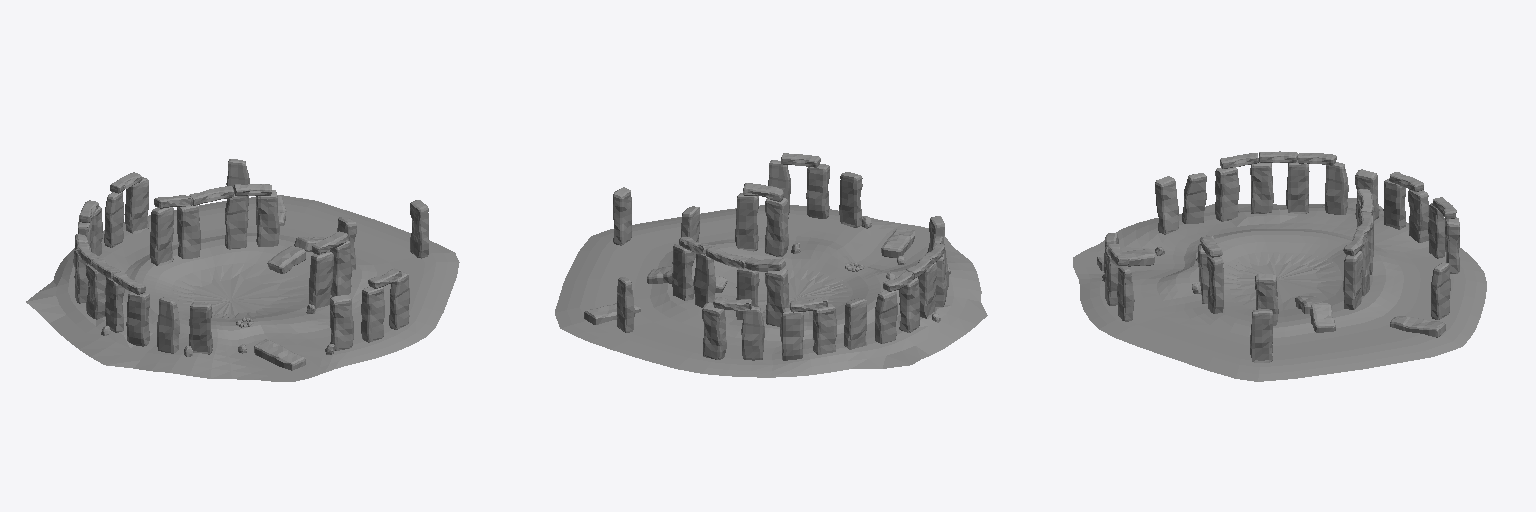
Rendered from StonehengeNew.obj.
The picture shows the model from 3 angles: view 1: azimuth 30°, elevation 25°; view 2: azimuth 150°, elevation 25°; view 3: azimuth 270°, elevation 25°; orthographic projection.
Parts seen in each view (by area): view 1: floor, front_rocks, middle_rocks, back_rocks, rockLP020, far_back_stones; view 2: floor, back_rocks, front_rocks, middle_rocks, far_back_stones, rockLP020; view 3: floor, back_rocks, front_rocks, far_back_stones, middle_rocks, rockLP020.
Part boxes in pixels (x1,y1,x2,y2): floor: (26,195,459,381); front_rocks: (113,231,409,370); middle_rocks: (150,184,324,273); back_rocks: (73,172,148,332); rockLP020: (330,287,384,350); far_back_stones: (226,159,428,270); floor: (555,205,987,377); back_rocks: (702,256,936,360); front_rocks: (735,153,948,306); middle_rocks: (647,237,789,326); far_back_stones: (584,187,699,332); rockLP020: (806,164,862,227); floor: (1073,198,1486,381); back_rocks: (1250,151,1459,273); front_rocks: (1097,153,1258,321); far_back_stones: (1250,262,1450,362); middle_rocks: (1295,189,1373,332); rockLP020: (1104,233,1119,305).
Bounding box in the file's own units: 29.41 × 5.97 × 28.1.